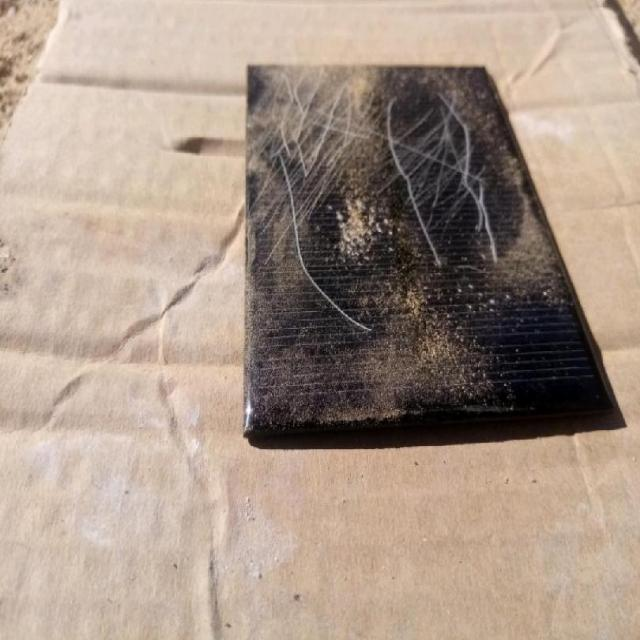faulty: (252, 59, 579, 408)
